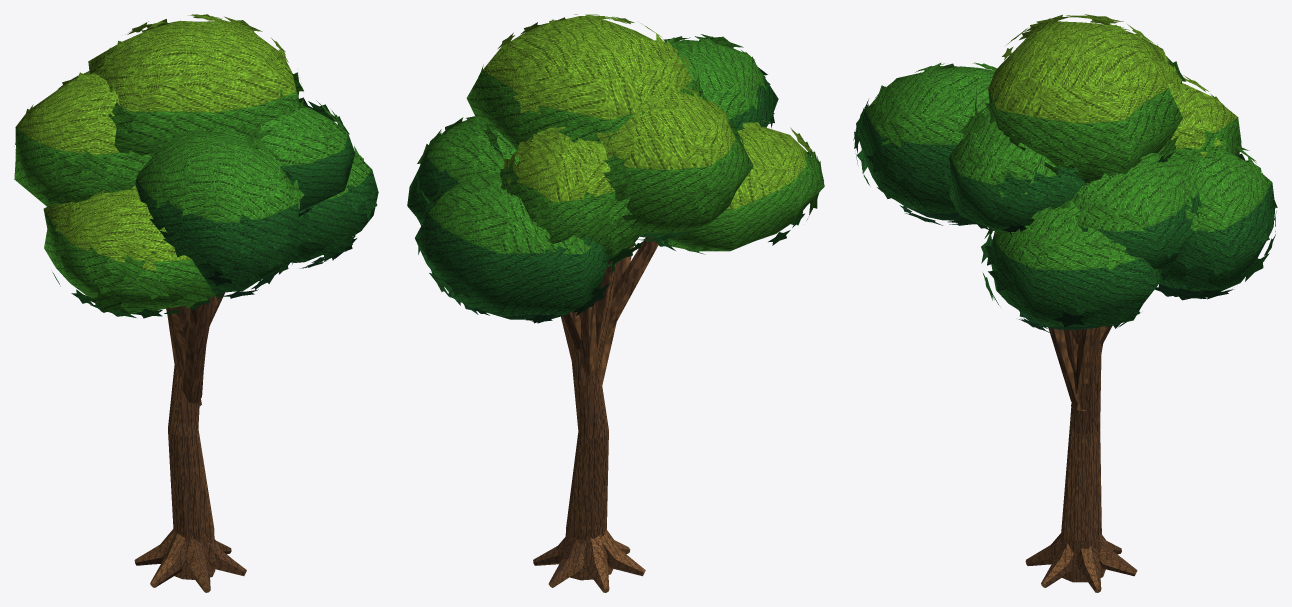
Rendered from SM_Woodland_Broadleaf_C.fbx.
3 renders of one model, left to right at view 1: azimuth 30°, elevation 25°; view 2: azimuth 150°, elevation 25°; view 3: azimuth 270°, elevation 25°, orthographic.
Parts seen in each view (by area): view 1: SM_Woodland_Broadleaf_C; view 2: SM_Woodland_Broadleaf_C; view 3: SM_Woodland_Broadleaf_C.
Part boxes in pixels (x1,y1,x2,y2): SM_Woodland_Broadleaf_C: (14, 14, 378, 592); SM_Woodland_Broadleaf_C: (407, 14, 824, 592); SM_Woodland_Broadleaf_C: (853, 14, 1277, 592).
Size of the model in its own units: 457 by 494 by 696.
Materials: 1 (1 with a texture image).
